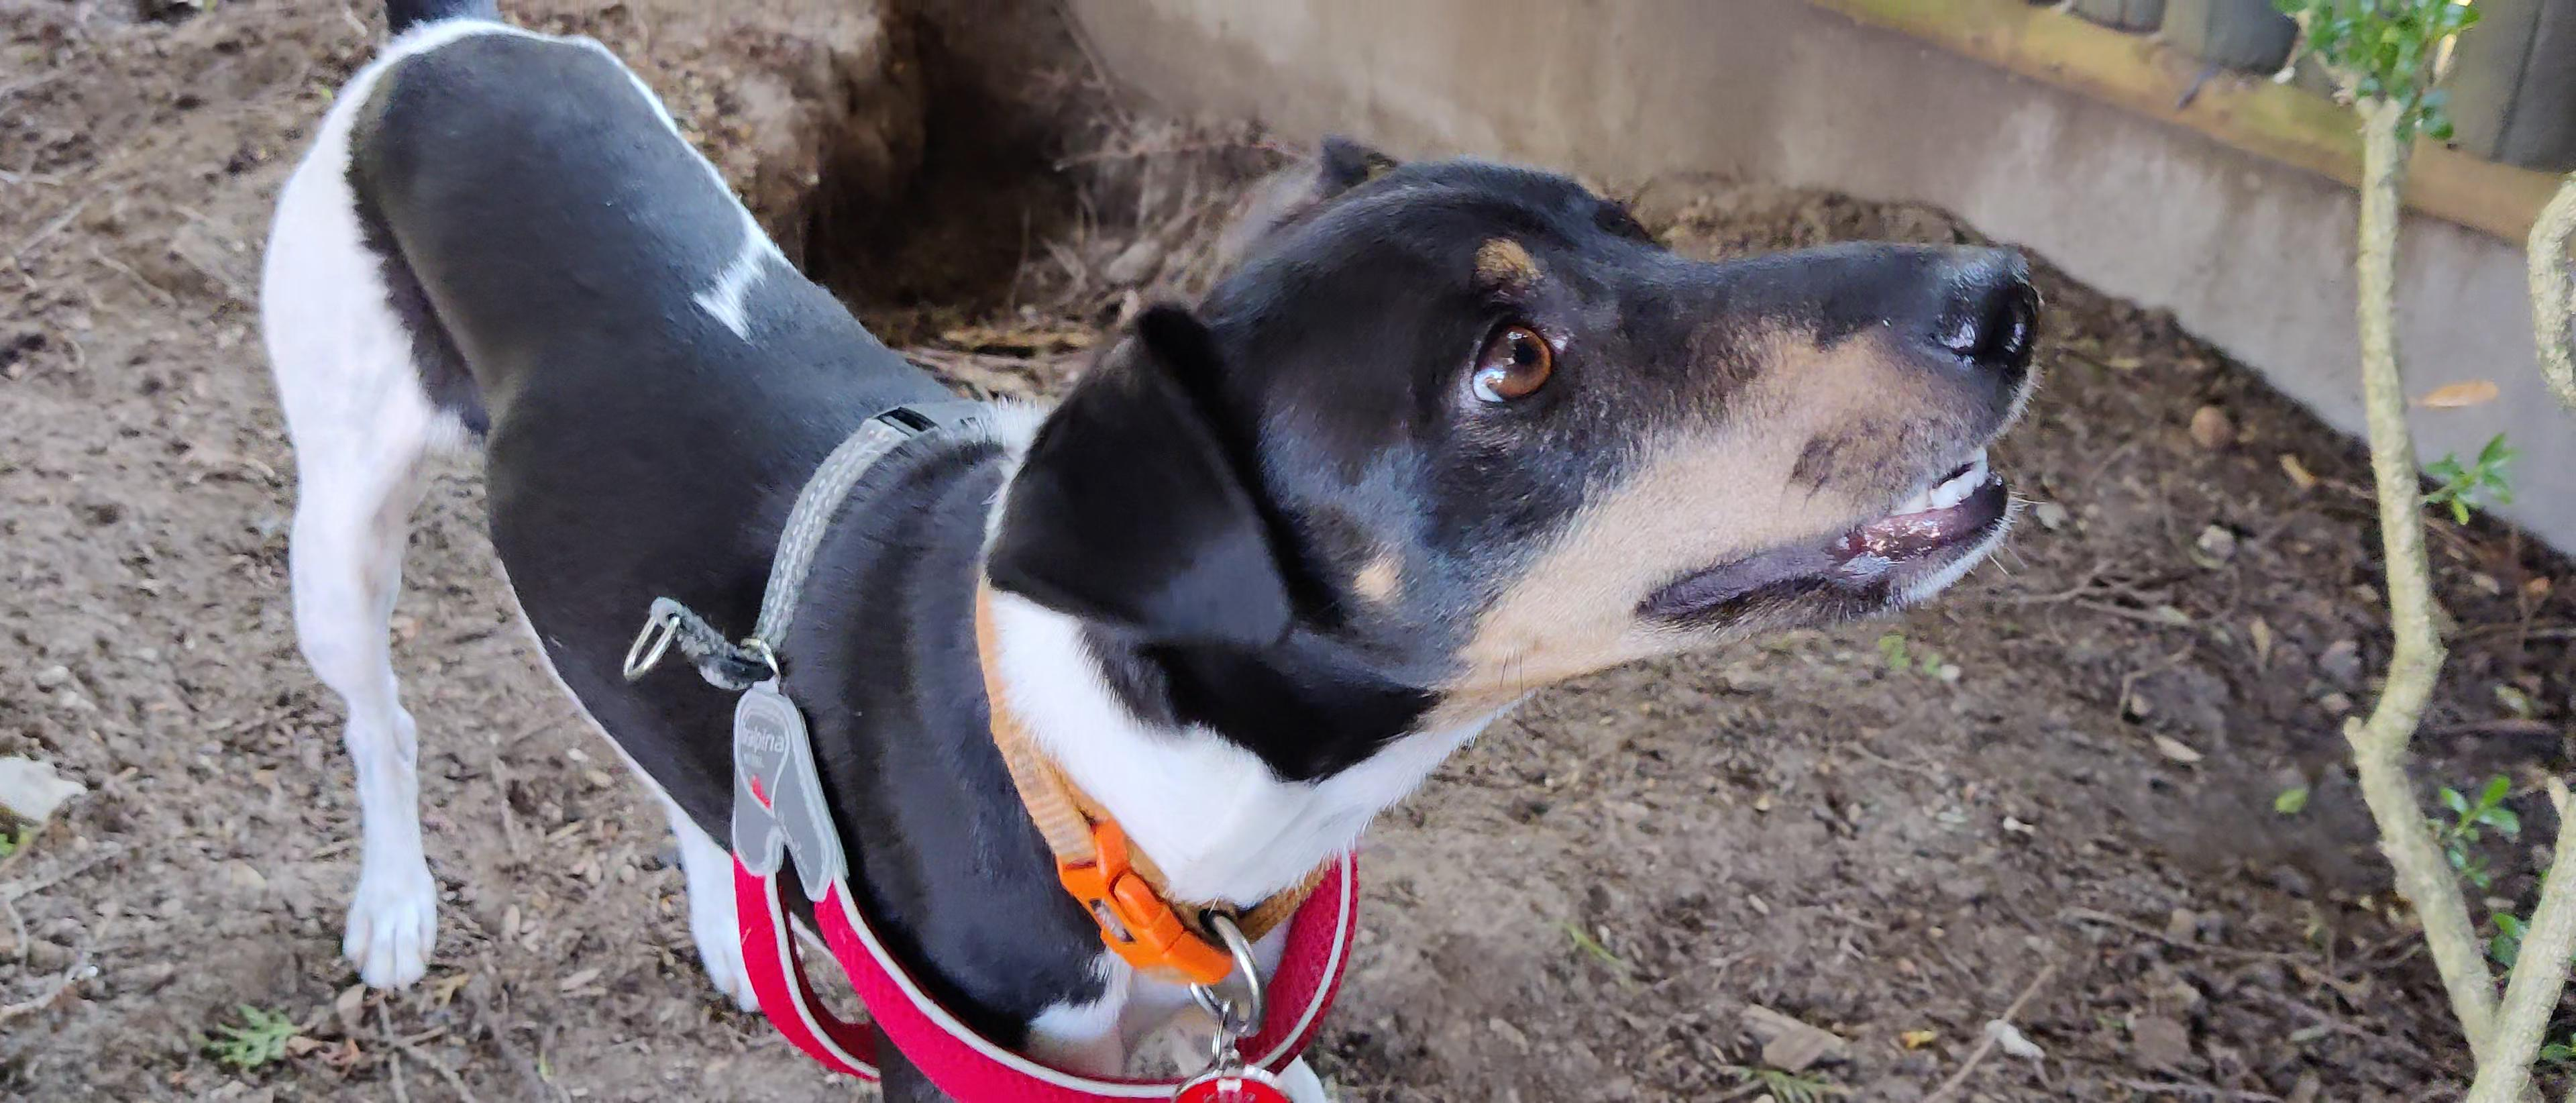Dog: (225, 0, 2086, 1103)
